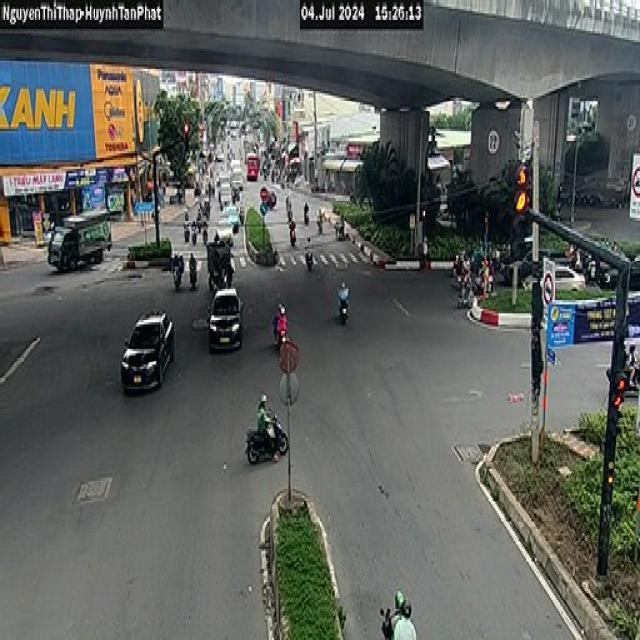Red: (514, 164, 528, 266), (608, 371, 625, 444), (608, 460, 615, 503)
